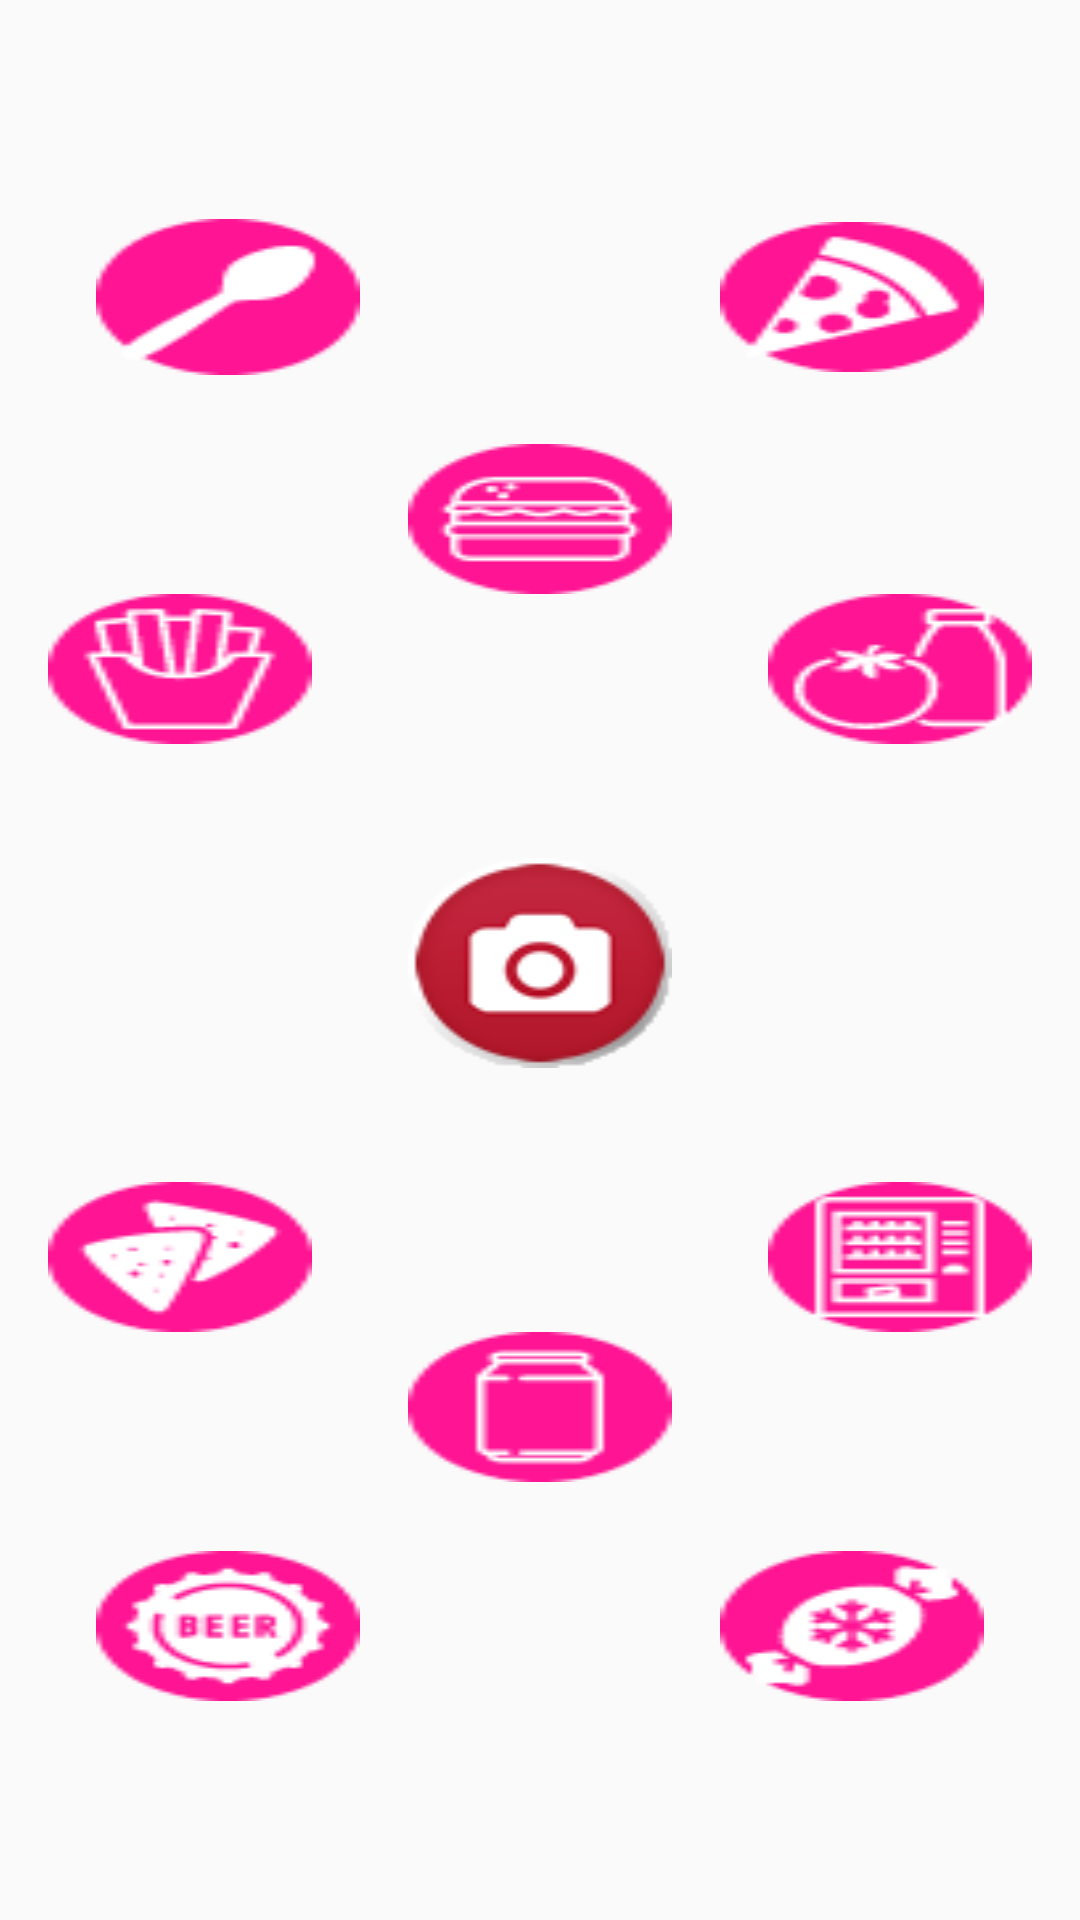

Where icons sit on this 1080px×1920px app screen, as (x1, y1, x2, y2):
beercan: (408, 1332, 672, 1482)
candy: (720, 1551, 984, 1701)
cips: (48, 594, 312, 744)
gocam: (414, 863, 672, 1068)
hamburger: (408, 444, 672, 594)
nachos: (48, 1182, 312, 1332)
pizza: (720, 222, 984, 372)
readydrinks: (768, 594, 1032, 744)
soup: (96, 219, 360, 375)
vendingmachine: (768, 1182, 1032, 1332)
